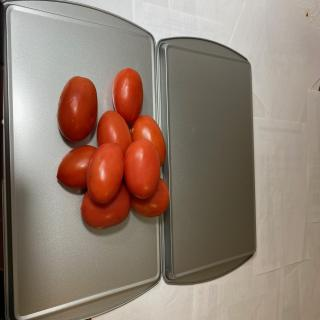Chilli: (56, 67, 170, 230)
Tomato: (56, 76, 98, 142), (80, 182, 130, 230), (86, 142, 124, 204), (124, 138, 160, 200), (131, 114, 166, 167), (56, 145, 97, 189), (112, 68, 143, 124), (96, 110, 132, 157), (130, 178, 170, 218)
